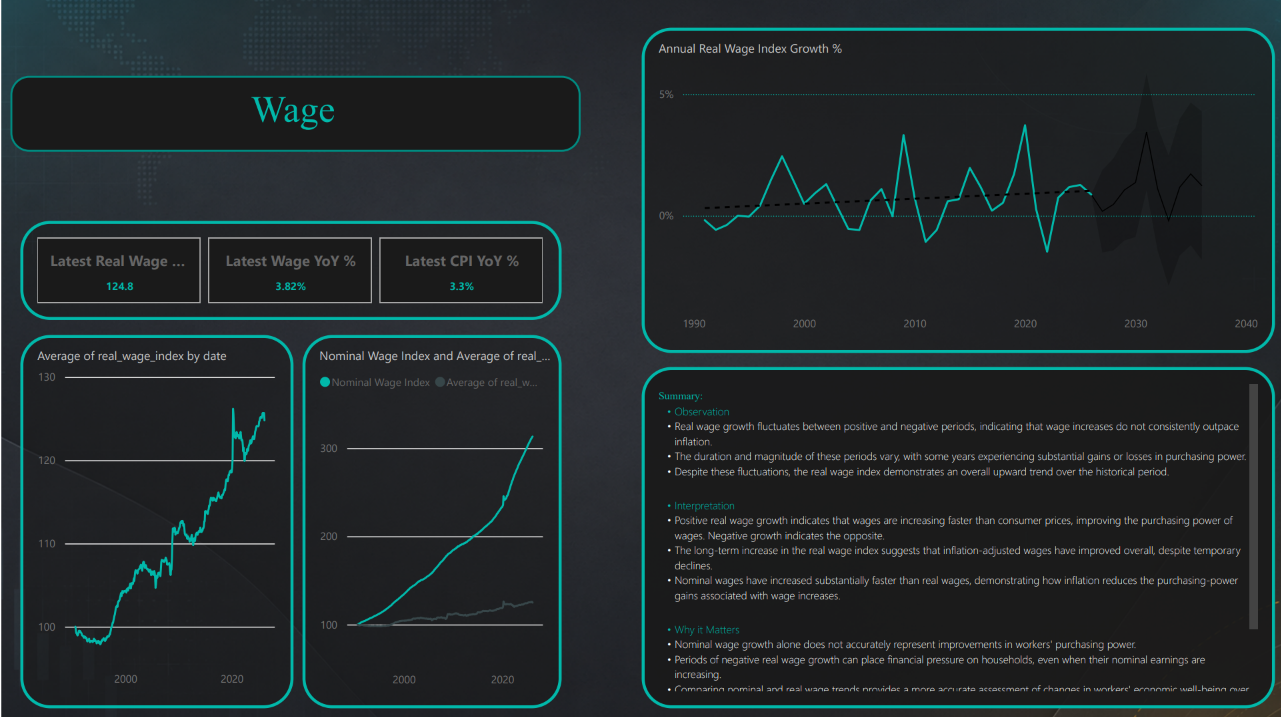

The page's visual inventory and layout, read from the dashboard file:
{"tool":"powerbi","page":{"name":"Purchasing Power","canvas":[1280,720],"ordinal":3},"visuals":[{"type":"shape","box":[9,77.1,569.9,75.7],"z":0},{"type":"lineChart","fields":{"Category":["cost_of_living_monthly_analysis.date.Variation.Date Hierarchy.Year"],"Y":["Avg(cost_of_living_monthly_analysis.real_wage_index)"]},"box":[18.7,335.9,272.8,373.4],"z":1000},{"type":"lineChart","fields":{"Category":["cost_of_living_monthly_analysis.date.Variation.Date Hierarchy.Year"],"Y":["cost_of_living_monthly_analysis.Nominal Wage Index","Avg(cost_of_living_monthly_analysis.real_wage_index)"]},"box":[300.7,335.9,259.4,373.4],"z":2000},{"type":"cardVisual","fields":{"Data":["cost_of_living_monthly_analysis.Latest Real Wage Index","cost_of_living_monthly_analysis.Latest Wage YoY %","cost_of_living_monthly_analysis.Latest CPI YoY %"]},"box":[18.7,221.5,541.3,99.5],"z":3000},{"type":"lineChart","title":"Annual Real Wage Index Growth % ","fields":{"Y":["cost_of_living_monthly_analysis.Annual Real Wage Index Growth %"],"Category":["Calendar.Year"]},"box":[639.7,29.1,632.9,324.5],"z":4000},{"type":"textbox","box":[20.7,83.9,541.1,62.4],"z":5000},{"type":"textbox","box":[640.2,368,632.4,341.5],"z":6001}]}

Visuals, with their boxes in screenshot pixels (x1, y1, x2, y2), scaled from the page's 1280x720 canvas onto the 1281x717 screenshot:
shape: (left=9, top=77, right=579, bottom=152)
lineChart - cost_of_living_monthly_analysis.date.Variation.Date Hierarchy.Year x Avg(cost_of_living_monthly_analysis.real_wage_index): (left=19, top=335, right=292, bottom=706)
lineChart - cost_of_living_monthly_analysis.date.Variation.Date Hierarchy.Year x cost_of_living_monthly_analysis.Nominal Wage Index: (left=301, top=335, right=561, bottom=706)
cardVisual - cost_of_living_monthly_analysis.Latest Real Wage Index x cost_of_living_monthly_analysis.Latest Wage YoY %: (left=19, top=221, right=560, bottom=320)
"Annual Real Wage Index Growth % " lineChart: (left=640, top=29, right=1274, bottom=352)
textbox: (left=21, top=84, right=562, bottom=146)
textbox: (left=641, top=366, right=1274, bottom=707)
